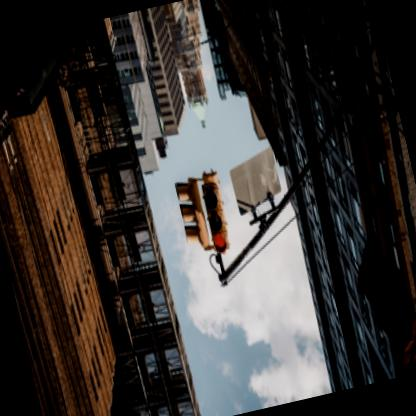trafficlight: (174, 171, 235, 264)
